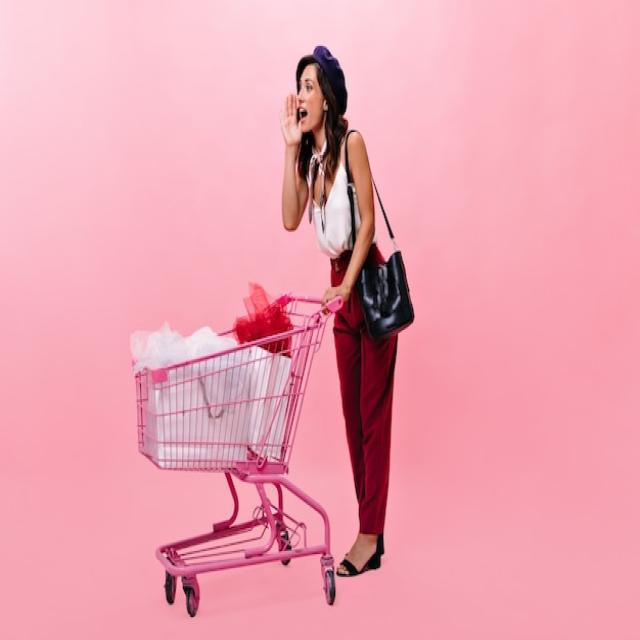Person: (281, 45, 415, 578)
